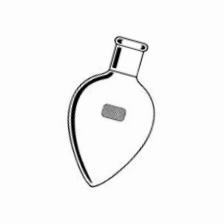Pear shaped flask: (56, 23, 157, 187)
